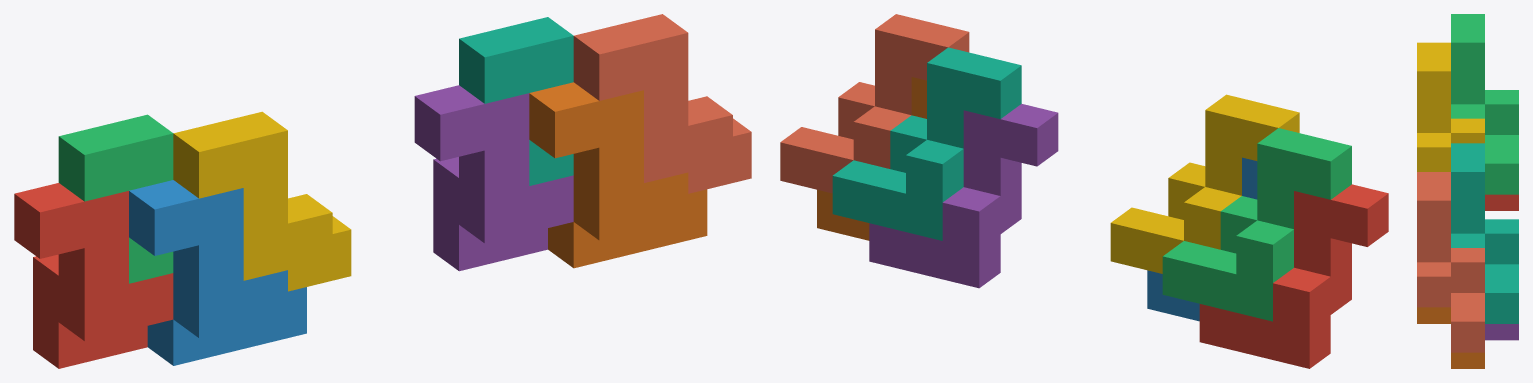
Rendered from tiling.obj.
The picture shows the model from 3 angles, left to right: view 1: azimuth 30°, elevation 25°; view 2: azimuth 150°, elevation 25°; view 3: azimuth 270°, elevation 25°; orthographic projection. The views are drawn at different scales.
Visible parts, largest first — view 1: copy_1_domain_5, copy_1_domain_1, copy_1_domain_6, copy_1_domain_2, copy_1_domain_4, copy_1_domain_8, copy_1_domain_3, copy_1_domain_7; view 2: copy_1_domain_7, copy_1_domain_3, copy_1_domain_5, copy_1_domain_1, copy_1_domain_4, copy_1_domain_8, copy_1_domain_6, copy_1_domain_2; view 3: copy_1_domain_8, copy_1_domain_3, copy_1_domain_7, copy_1_domain_4, copy_1_domain_6, copy_1_domain_1, copy_1_domain_5.
Part boxes in pixels (x1=…): copy_1_domain_5: x1=414, y1=85, x2=573, y2=271; copy_1_domain_1: x1=14, y1=183, x2=173, y2=368; copy_1_domain_6: x1=529, y1=82, x2=707, y2=268; copy_1_domain_2: x1=129, y1=180, x2=306, y2=365; copy_1_domain_4: x1=173, y1=111, x2=351, y2=291; copy_1_domain_8: x1=573, y1=14, x2=751, y2=193; copy_1_domain_3: x1=58, y1=114, x2=173, y2=283; copy_1_domain_7: x1=459, y1=17, x2=573, y2=185; copy_1_domain_7: x1=832, y1=47, x2=1021, y2=240; copy_1_domain_3: x1=1162, y1=128, x2=1351, y2=321; copy_1_domain_5: x1=869, y1=104, x2=1058, y2=288; copy_1_domain_1: x1=1199, y1=184, x2=1388, y2=368; copy_1_domain_4: x1=1110, y1=94, x2=1299, y2=273; copy_1_domain_8: x1=780, y1=14, x2=969, y2=193; copy_1_domain_6: x1=817, y1=77, x2=926, y2=240; copy_1_domain_2: x1=1147, y1=157, x2=1257, y2=321; copy_1_domain_8: x1=1417, y1=172, x2=1484, y2=352; copy_1_domain_3: x1=1451, y1=14, x2=1518, y2=194; copy_1_domain_7: x1=1451, y1=143, x2=1518, y2=323; copy_1_domain_4: x1=1417, y1=42, x2=1484, y2=171; copy_1_domain_6: x1=1417, y1=307, x2=1484, y2=368; copy_1_domain_1: x1=1485, y1=194, x2=1518, y2=210; copy_1_domain_5: x1=1485, y1=324, x2=1518, y2=340.
Size of the model in its own units: 16 by 5 by 3.
